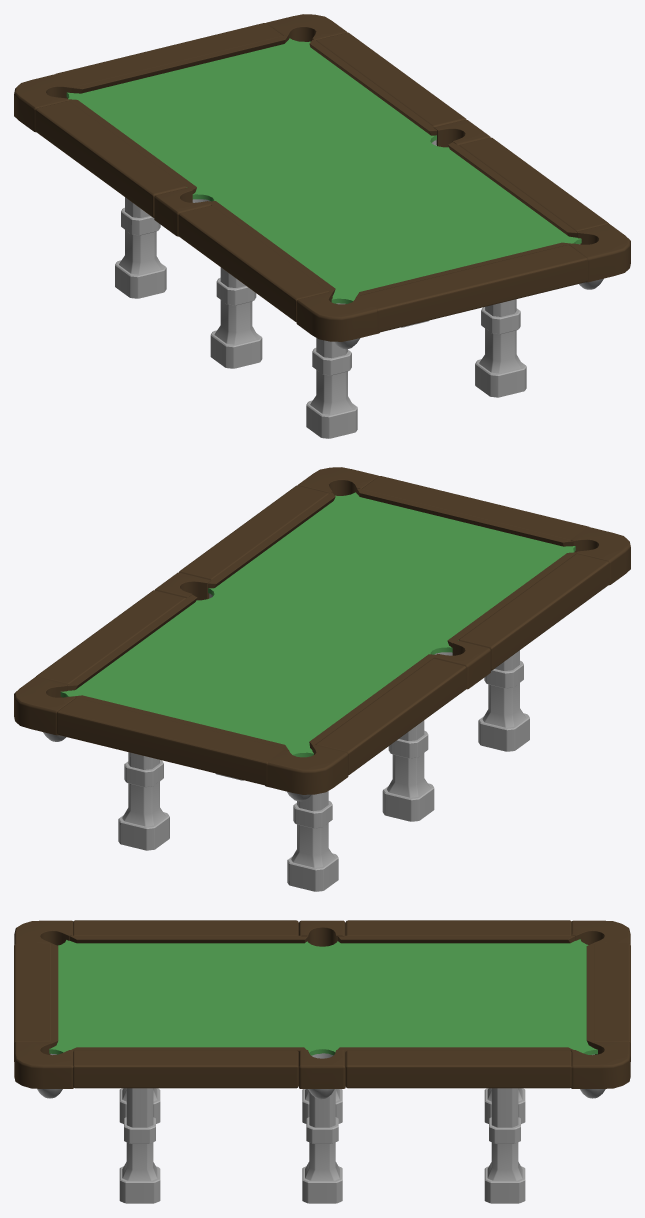
Rendered from BillardTable_3.fbx.
The picture shows the model from 3 angles, top to bottom: view 1: azimuth 30°, elevation 25°; view 2: azimuth 150°, elevation 25°; view 3: azimuth 270°, elevation 25°; orthographic projection. The views are drawn at different scales.
Visible parts, largest first — view 1: BillardTable_3; view 2: BillardTable_3; view 3: BillardTable_3.
Boxes of the visible parts, left/top/right/bottom form: BillardTable_3: left=14, top=14, right=630, bottom=438; BillardTable_3: left=14, top=467, right=630, bottom=891; BillardTable_3: left=14, top=920, right=630, bottom=1203.
Size of the model in its own units: 163 by 84.95 by 290.
